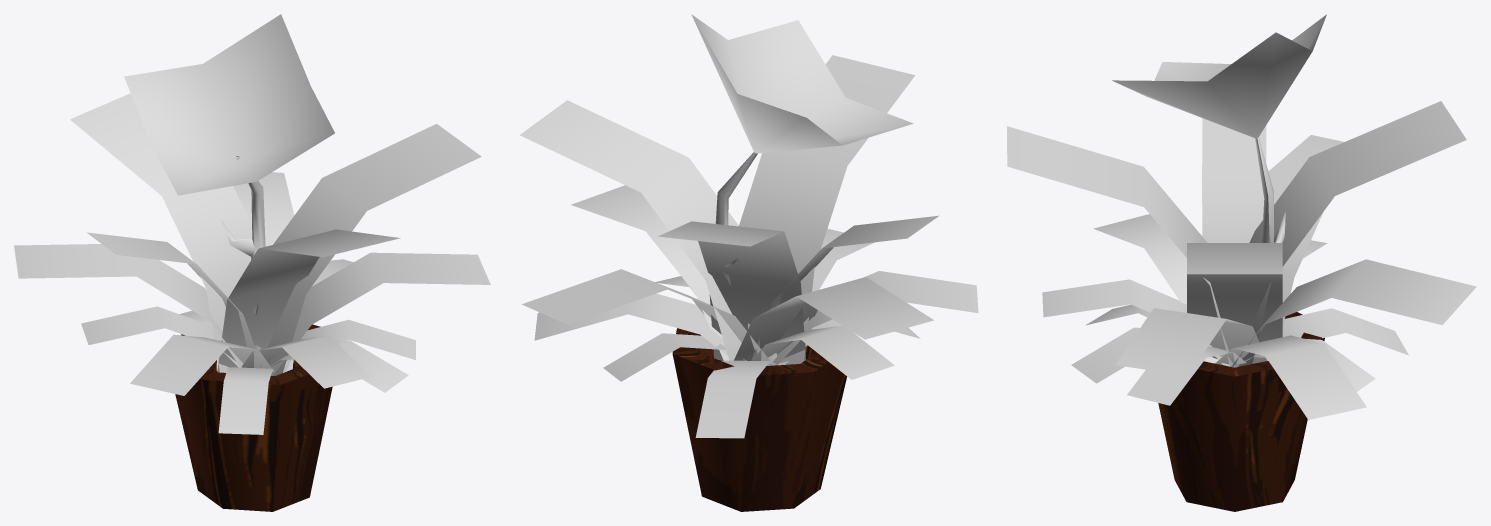
The model's file is SM_PROP_PLANT_pot_v3_04.fbx.
3 views of the same model, side by side, from view 1: azimuth 30°, elevation 25°; view 2: azimuth 150°, elevation 25°; view 3: azimuth 270°, elevation 25° (orthographic). The views are drawn at different scales.
Parts seen in each view (by area): view 1: SM_PROP_PLANT_pot_v3_04; view 2: SM_PROP_PLANT_pot_v3_04; view 3: SM_PROP_PLANT_pot_v3_04.
Part boxes in pixels (x1=…): SM_PROP_PLANT_pot_v3_04: x1=14, y1=14, x2=490, y2=511; SM_PROP_PLANT_pot_v3_04: x1=519, y1=14, x2=978, y2=511; SM_PROP_PLANT_pot_v3_04: x1=1007, y1=14, x2=1476, y2=511.
Size of the model in its own units: 123 by 130 by 116.
